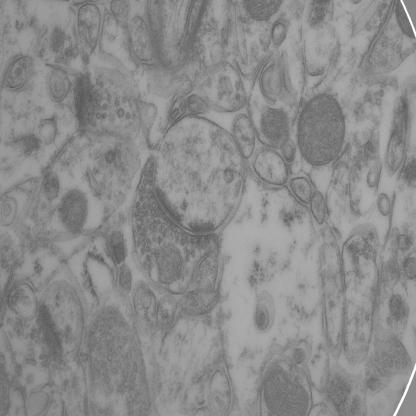mitochondria: (296, 91, 347, 169), (58, 187, 89, 236), (260, 108, 291, 144)
